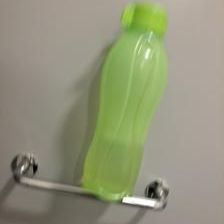bottle: (77, 2, 174, 202)
